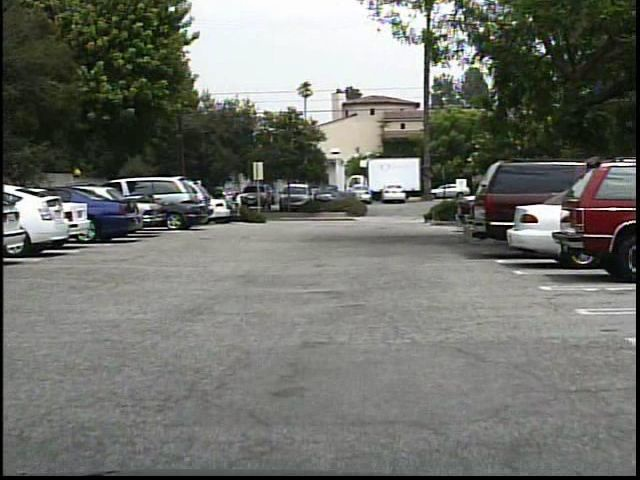person: (218, 188, 234, 219), (231, 193, 245, 221), (228, 190, 240, 220)
